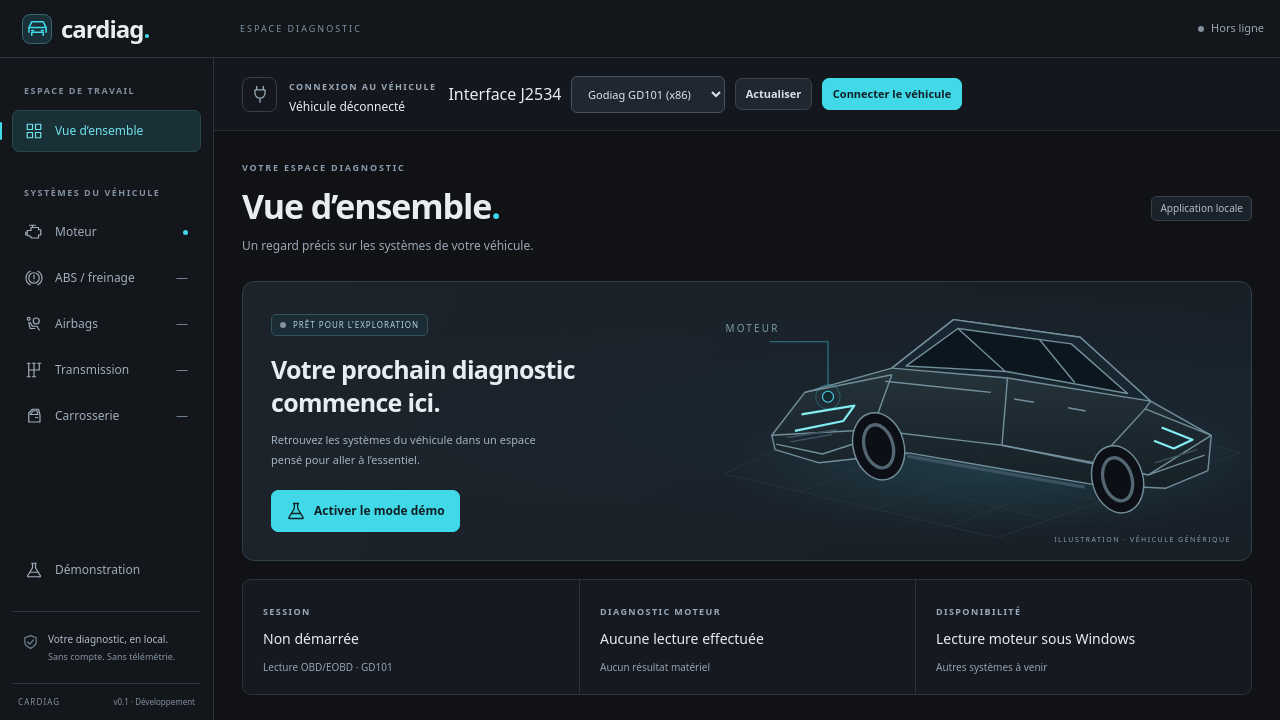
Scenario: lecture matérielle › découvre le pilote et conserve la source et le statut de chaque défaut
Click the button "Connecter le véhicule": (892, 94) [822,78,962,110]
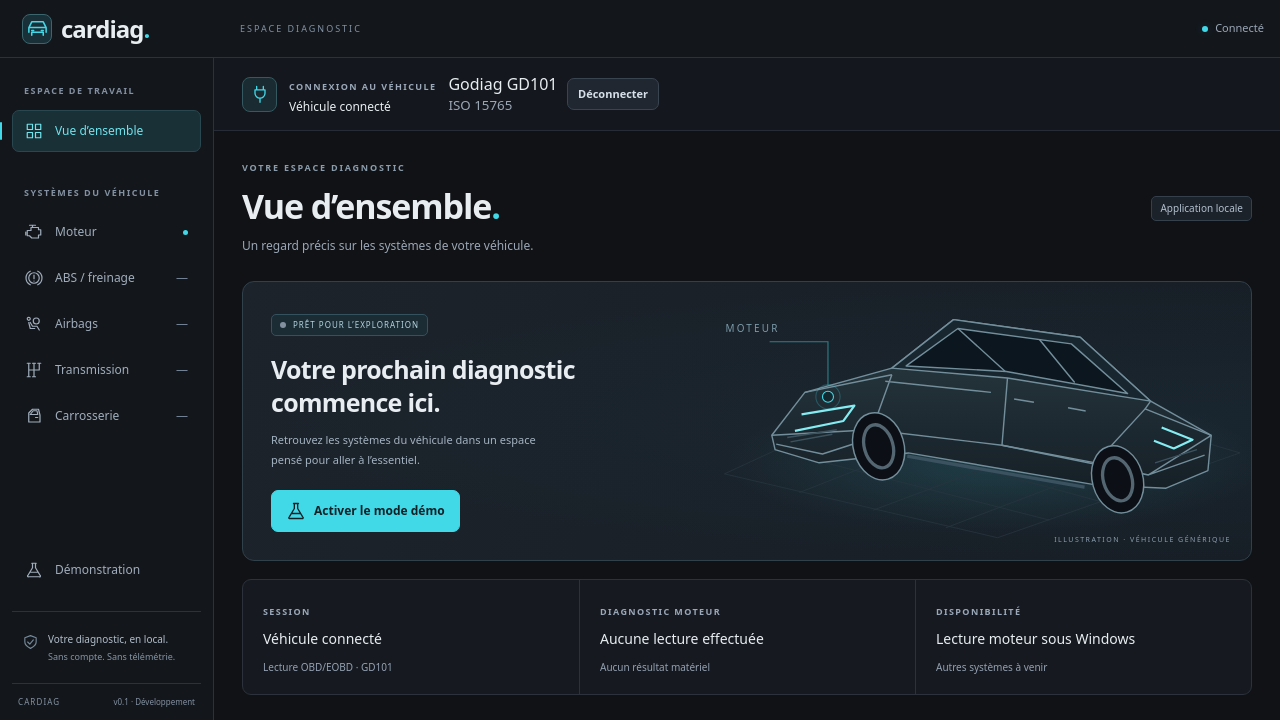
Now the message reads "Véhicule connecté", box [289,98,391,115]
Click the button "Moteur": (106, 232) [12,211,201,253]
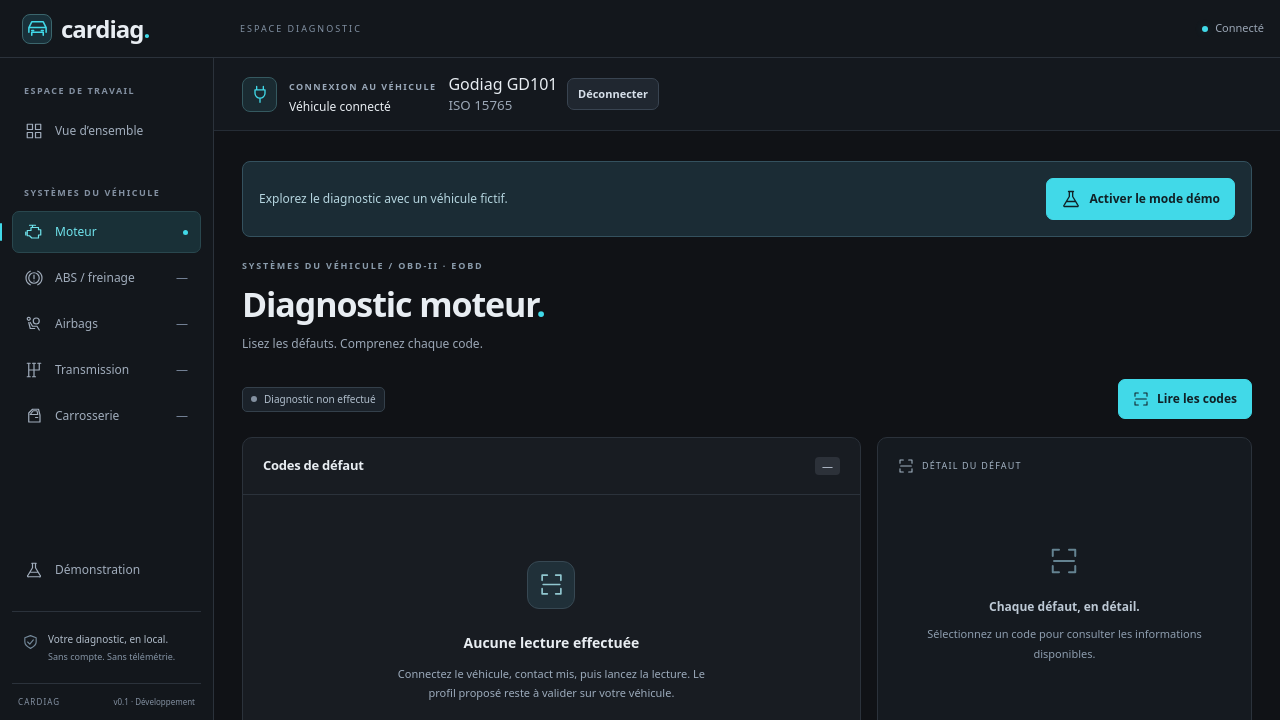
Click the button "Lire les codes": (1185, 399) [1118,379,1252,419]
(page scrolled)
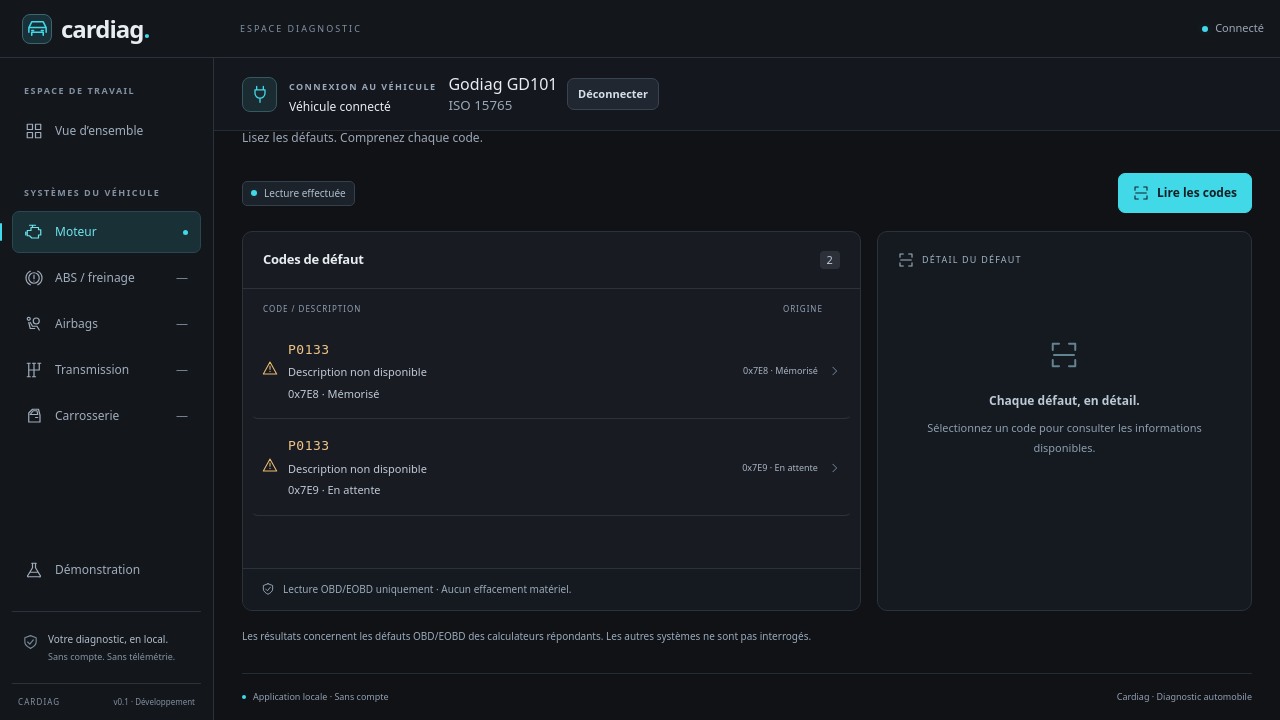
Now the button "Lire les codes" is enabled, box [1118,173,1252,213]
Now the number of buttons "P0133" is 2
Click the button "P0133": (309, 446) [251,419,852,516]
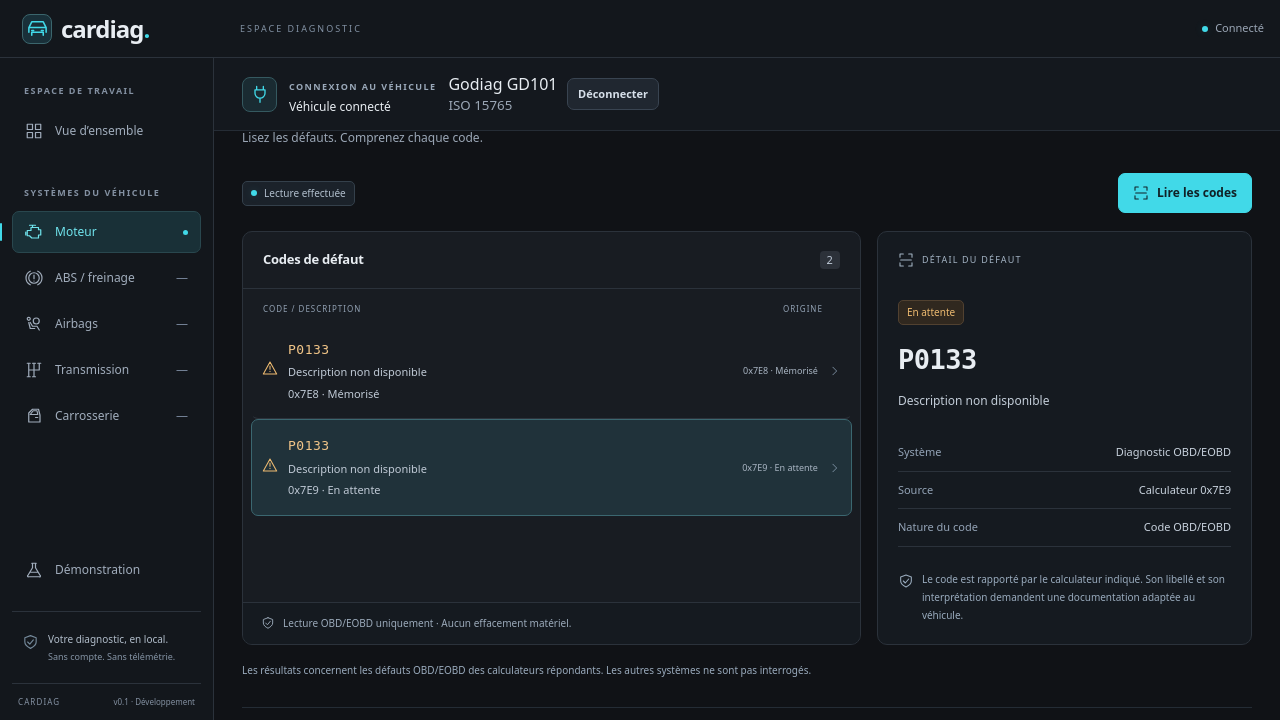
Now the text "Calculateur 0x7E9" is shown, box [1139,482,1231,498]
